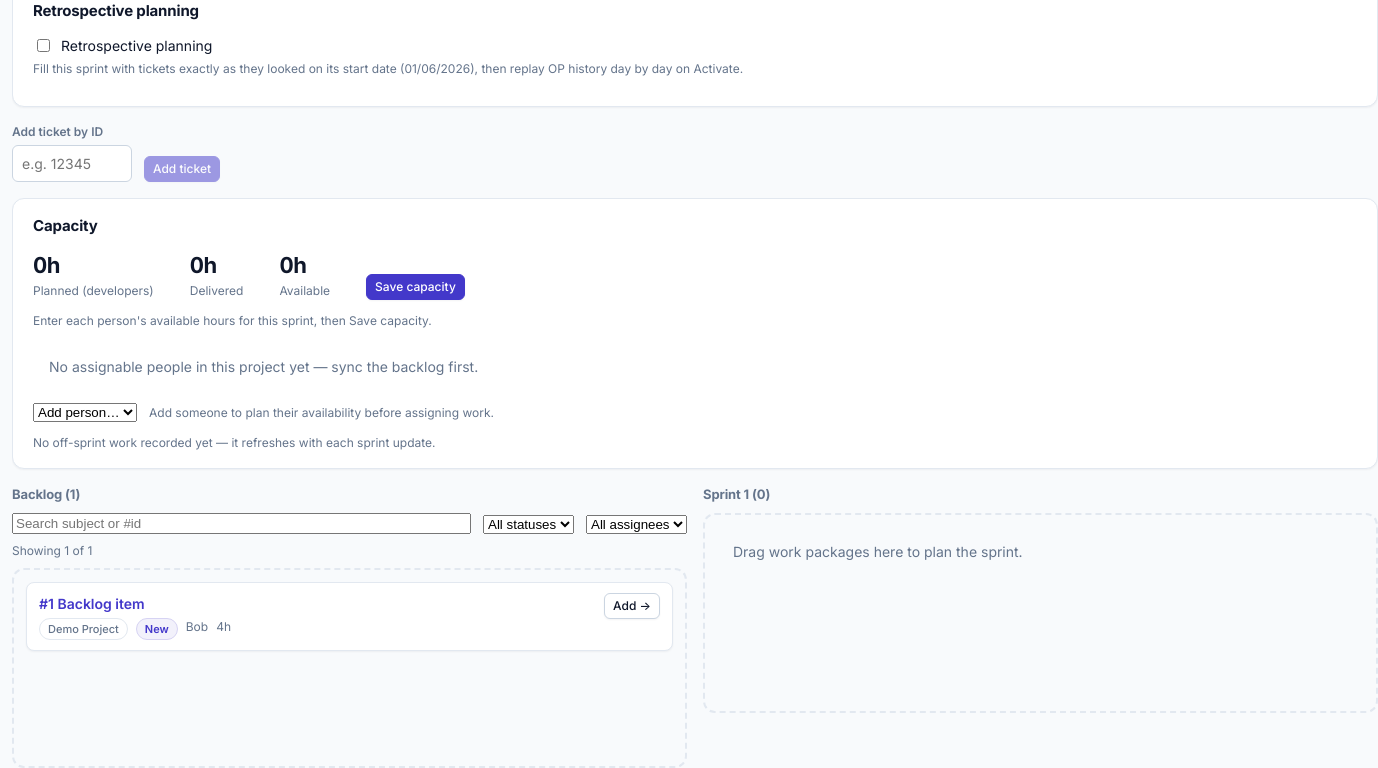
Test: SprintBoardScreen › adds a backlog person via 'Add person' as an editable row with NO sprint items yet
The width and height of the screenshot is (1378, 768).
(page scrolled)
Select "Bob" in the dropdown named "Add person" at (85, 412), box [33,403,137,422]
(page scrolled)
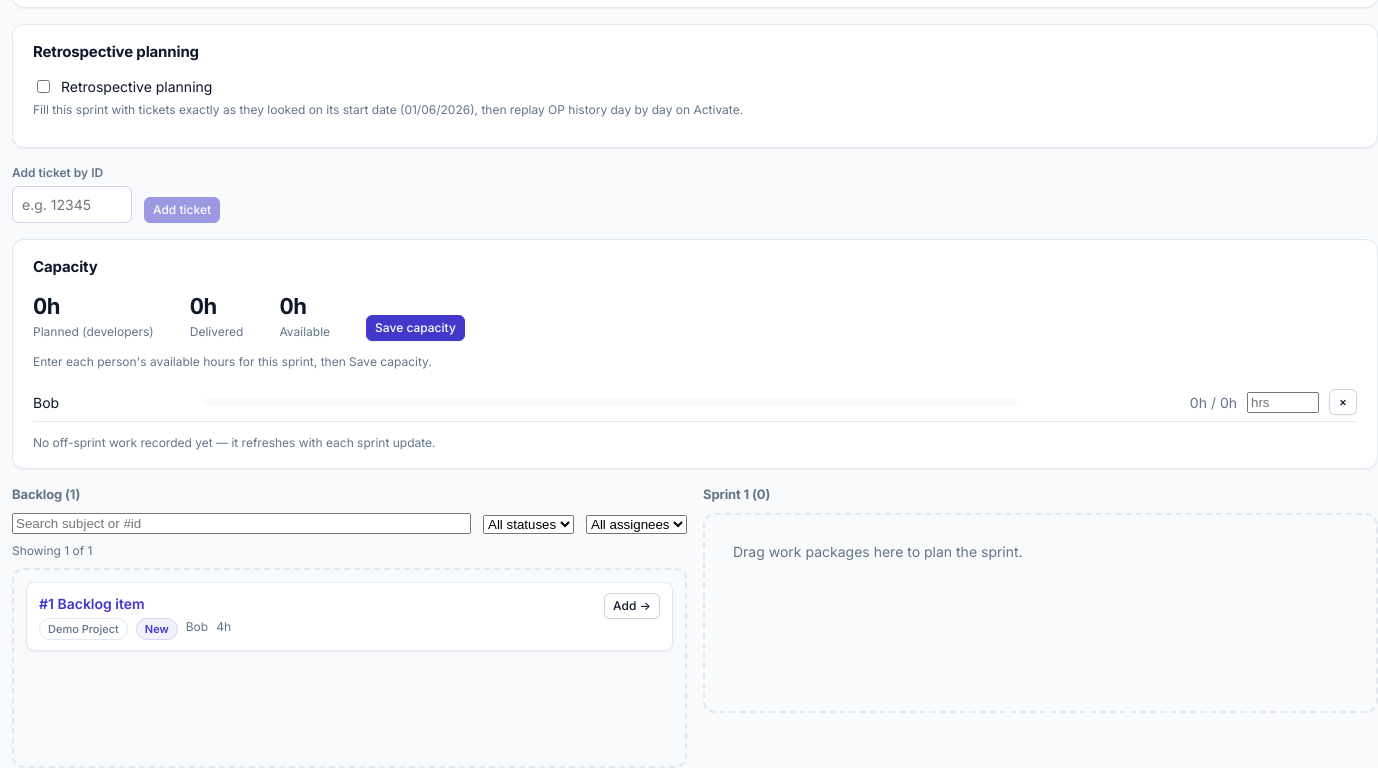
Expected: the number field named "available hours for Bob" is enabled, [1247,392,1319,412]
